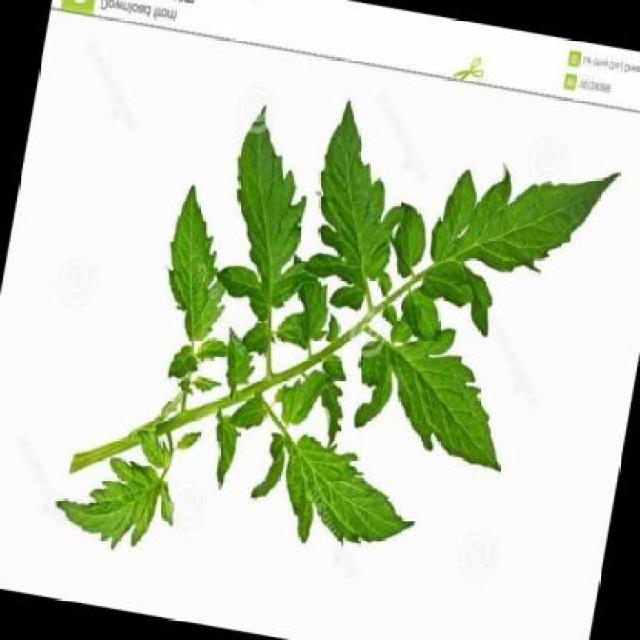Healthy Leaf: (290, 92, 422, 328), (206, 104, 340, 330), (232, 420, 434, 563), (438, 142, 624, 296), (368, 312, 524, 478), (40, 422, 197, 584), (137, 190, 255, 362)
